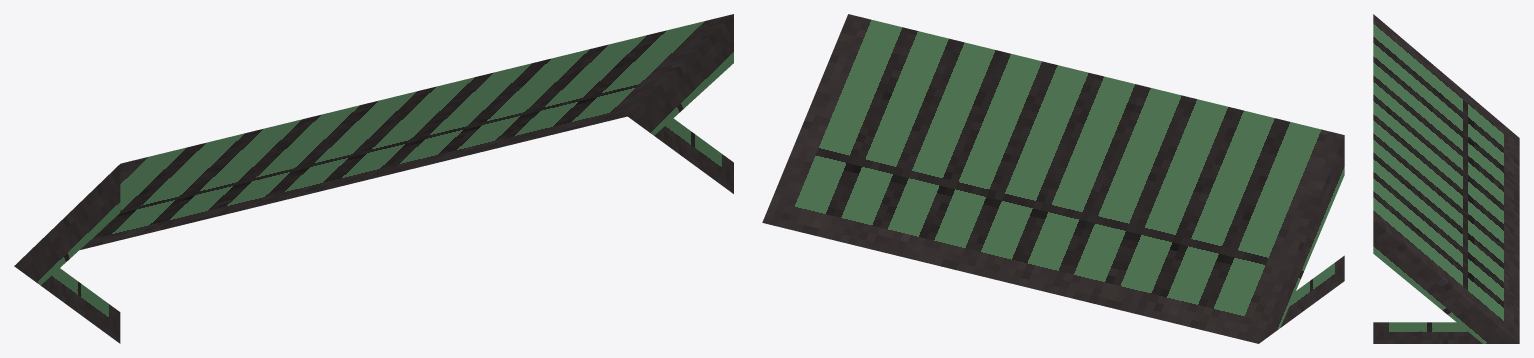
File: detail_awning_wide.glb
The picture shows the model from 3 angles, left to right: view 1: azimuth 30°, elevation 25°; view 2: azimuth 150°, elevation 25°; view 3: azimuth 270°, elevation 25°; orthographic projection. The views are drawn at different scales.
Visible parts, largest first — view 1: detail-awning-wide; view 2: detail-awning-wide; view 3: detail-awning-wide.
Part boxes in pixels (<box>): detail-awning-wide: <box>14,14,733,343</box>; detail-awning-wide: <box>762,14,1344,343</box>; detail-awning-wide: <box>1373,14,1519,343</box>.
Size of the model in its own units: 1 by 0.2808 by 0.3.
Materials: 1 (1 with a texture image).
